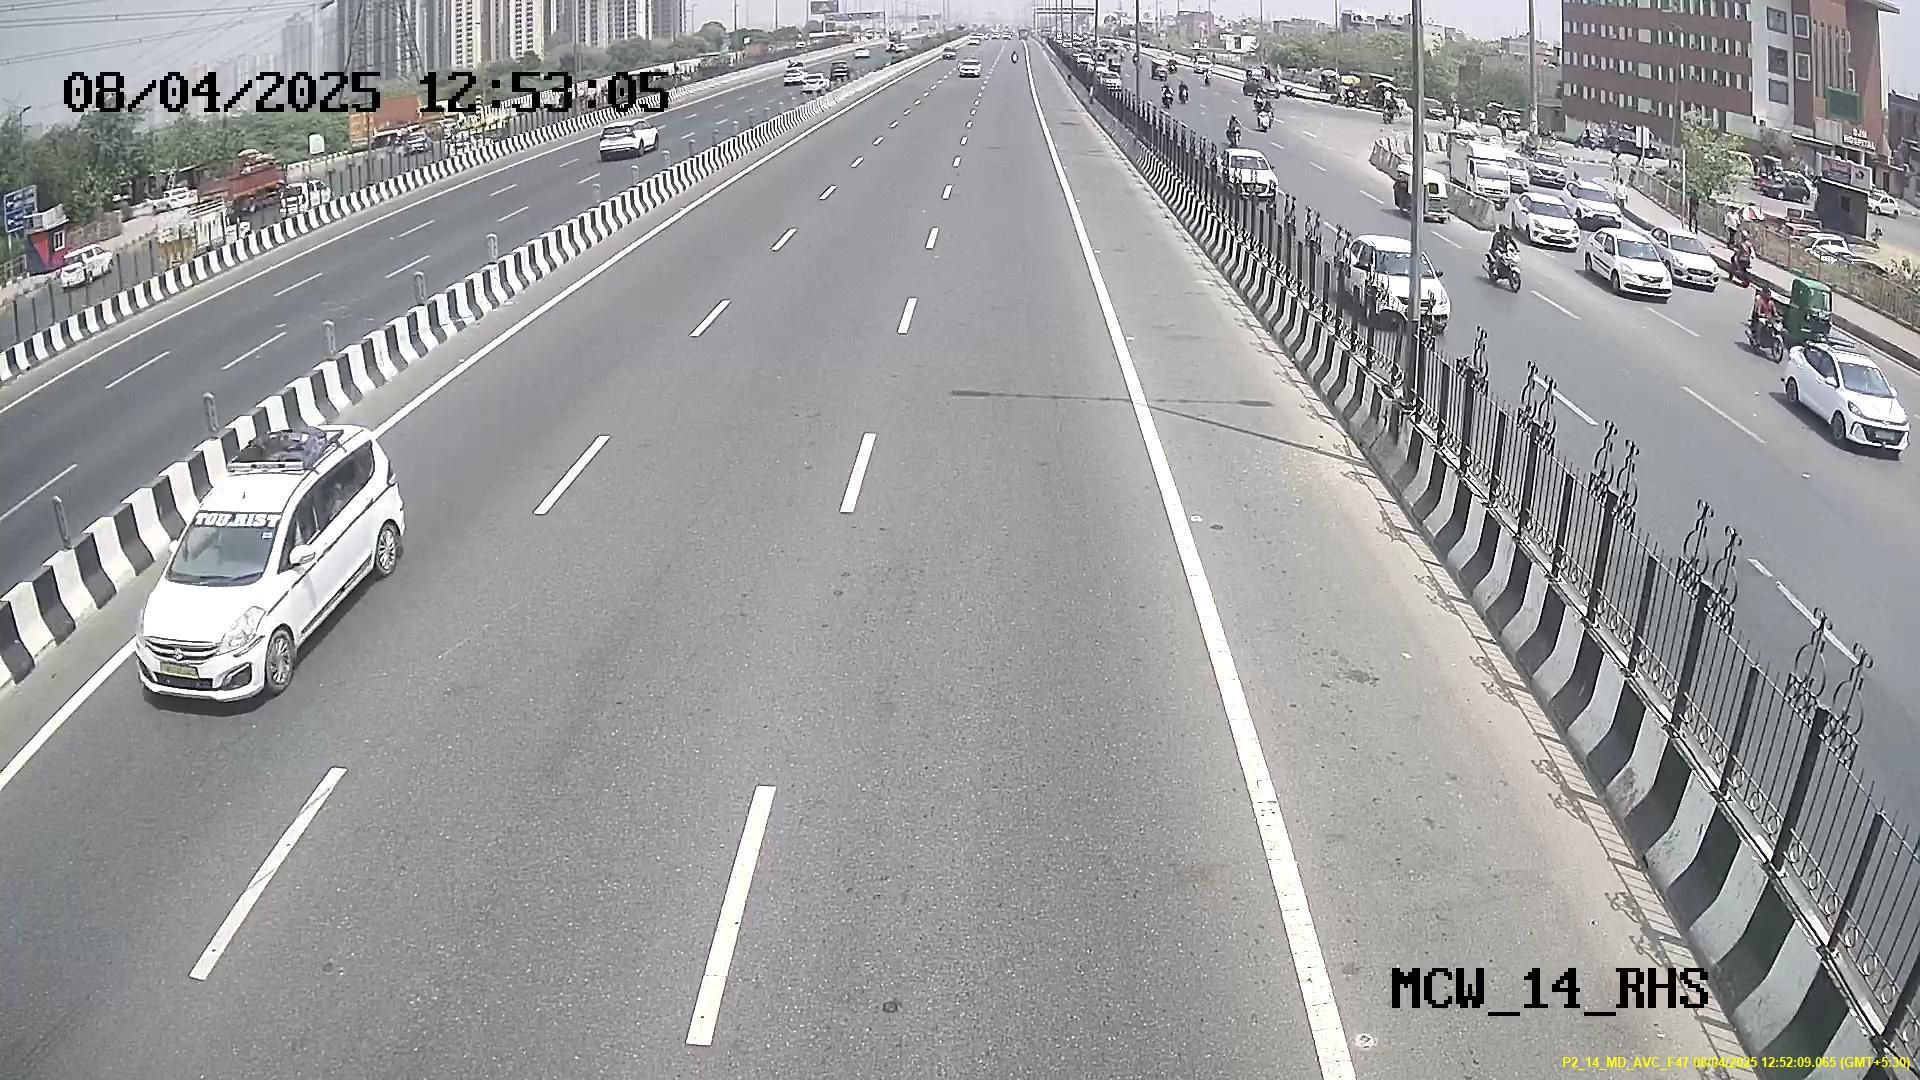car: (132, 468, 324, 713)
